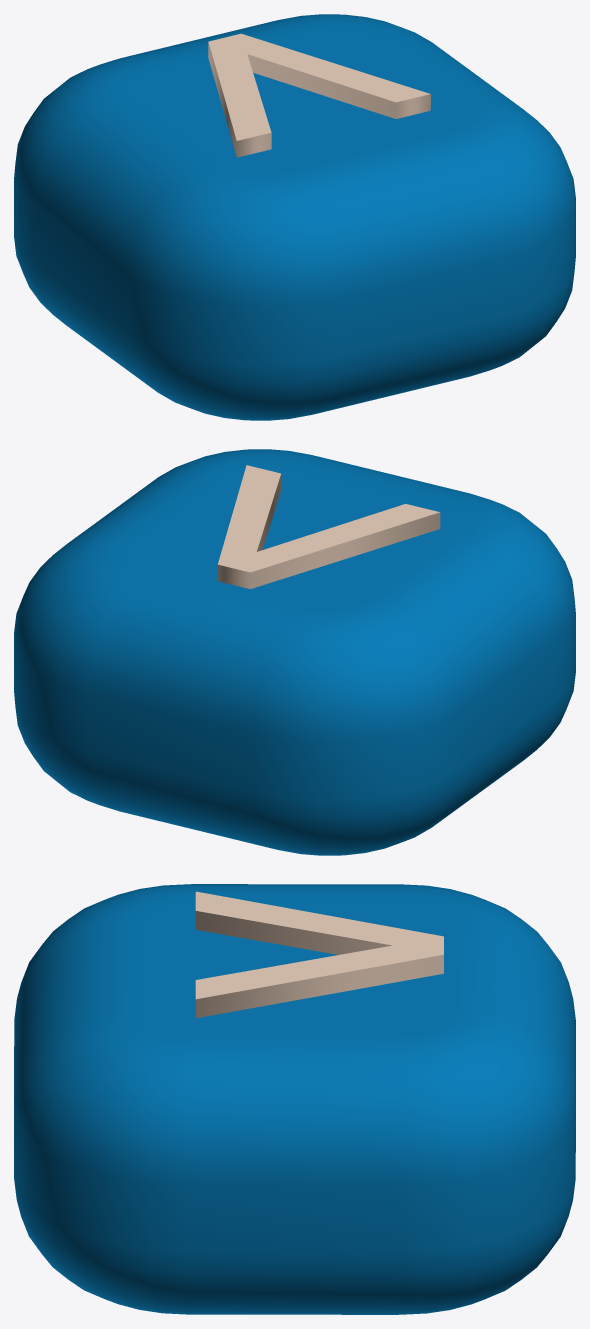
3 views of the same model, one above another, from view 1: azimuth 30°, elevation 25°; view 2: azimuth 150°, elevation 25°; view 3: azimuth 270°, elevation 25° (orthographic). The views are drawn at different scales.
Parts seen in each view (by area): view 1: Cube.016, Text.003; view 2: Cube.016, Text.003; view 3: Cube.016, Text.003.
Boxes of the visible parts, x1,y1,x2,y2 form: Cube.016: (14, 14, 575, 420); Text.003: (208, 33, 430, 157); Cube.016: (14, 449, 575, 855); Text.003: (217, 465, 440, 589); Cube.016: (14, 884, 575, 1314); Text.003: (195, 891, 443, 1018).
Bounding box in the file's own units: 2 × 1.12 × 2.
